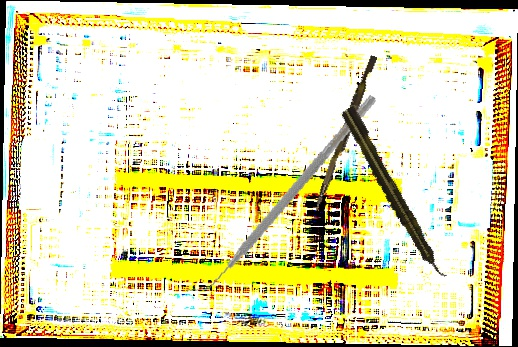Chopper: (184, 71, 377, 317)
Handpiece: (339, 104, 449, 284)
Pusher: (313, 53, 378, 214)
